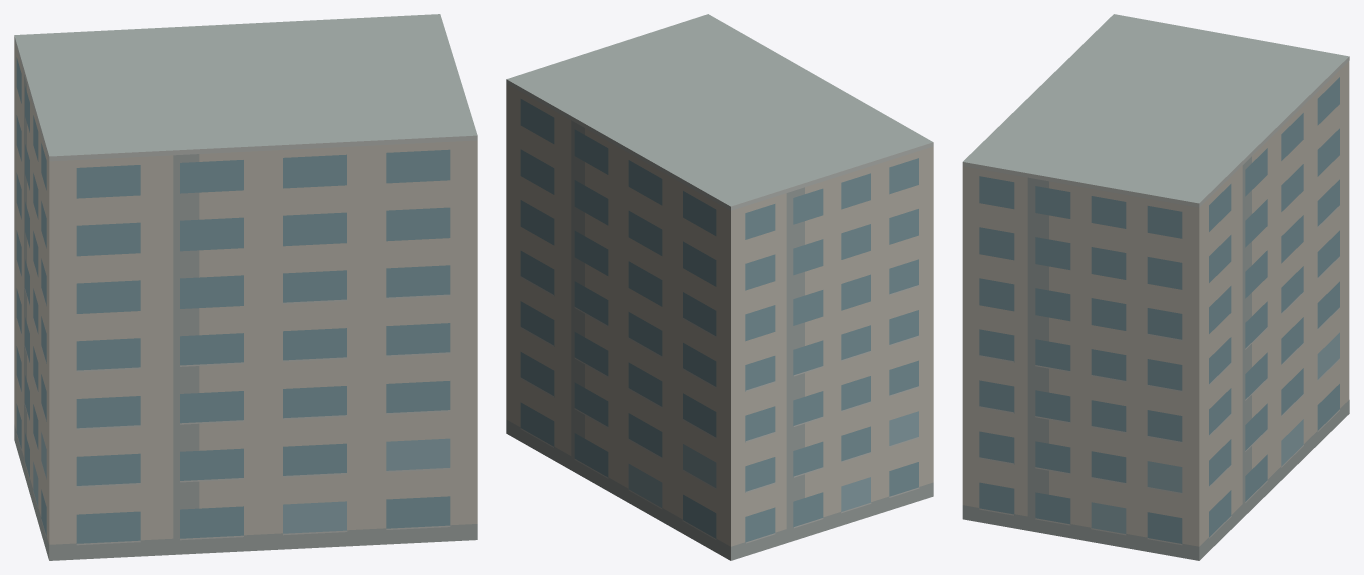
Rendered from survey-upis-32847898.glb.
The picture shows the model from 3 angles, left to right: view 1: azimuth 30°, elevation 25°; view 2: azimuth 150°, elevation 25°; view 3: azimuth 270°, elevation 25°; orthographic projection. The views are drawn at different scales.
Parts seen in each view (by area): view 1: survey-upis-32847898.tmp; view 2: survey-upis-32847898.tmp; view 3: survey-upis-32847898.tmp.
Boxes of the visible parts, x1=… form: survey-upis-32847898.tmp: x1=14, y1=14, x2=477, y2=560; survey-upis-32847898.tmp: x1=506, y1=14, x2=933, y2=560; survey-upis-32847898.tmp: x1=962, y1=14, x2=1349, y2=560.
Bounding box in the file's own units: 23.09 × 20.3 × 19.92.
